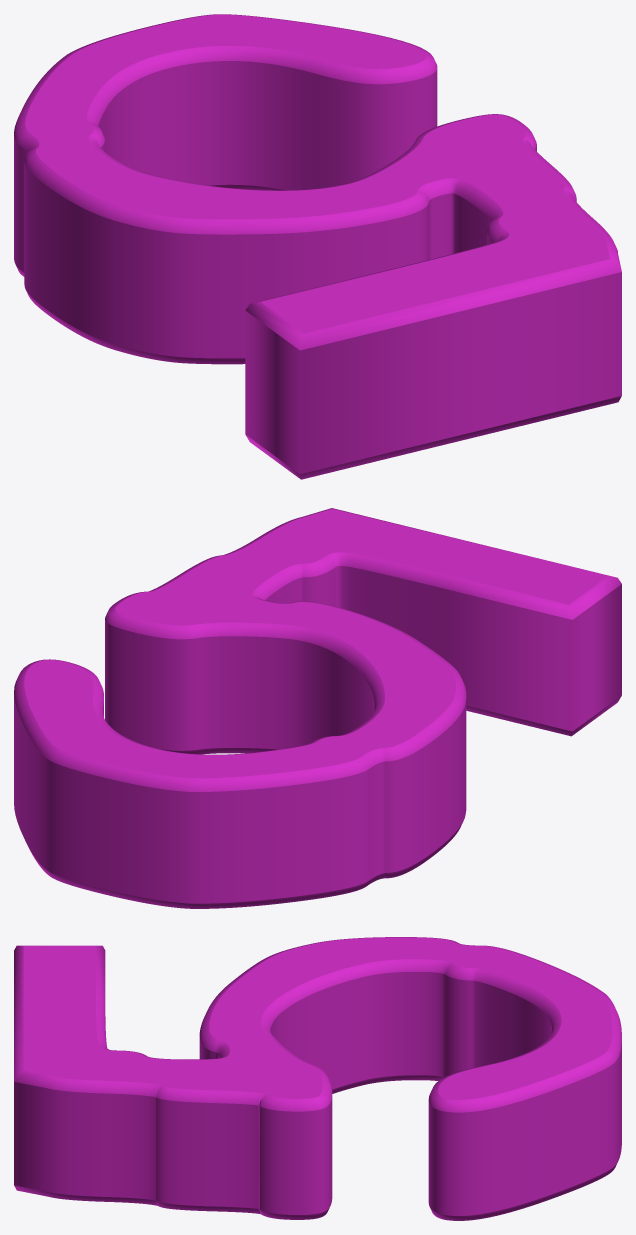
File: Blocky_Number_5.fbx
3 renders of one model, top to bottom at view 1: azimuth 30°, elevation 25°; view 2: azimuth 150°, elevation 25°; view 3: azimuth 270°, elevation 25°, orthographic. The views are drawn at different scales.
Parts seen in each view (by area): view 1: BlockyNumber_5; view 2: BlockyNumber_5; view 3: BlockyNumber_5.
Boxes of the visible parts, x1,y1,x2,y2 form: BlockyNumber_5: (14,14,621,479); BlockyNumber_5: (14,508,621,908); BlockyNumber_5: (14,937,621,1220).
Size of the model in its own units: 0.4247 by 0.14 by 0.6393.
